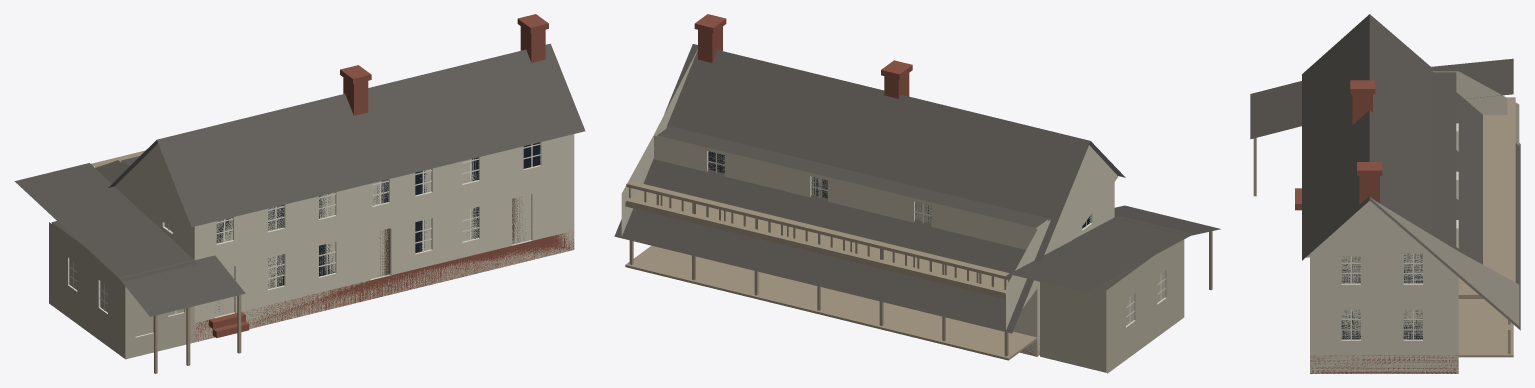
The model's file is hinderliter-grog-shop-1913.glb.
The picture shows the model from 3 angles, left to right: view 1: azimuth 30°, elevation 25°; view 2: azimuth 150°, elevation 25°; view 3: azimuth 270°, elevation 25°; orthographic projection. The views are drawn at different scales.
Parts seen in each view (by area): view 1: hinderliter_roof, hinderliter_board, hinderliter_board2, hinderliter_brick, hinderliter_glass, hinderliter_trim, hinderliter_sash, hinderliter_wood, hinderliter_base, hinderliter_door; view 2: hinderliter_roof, hinderliter_wood, hinderliter_board, hinderliter_board2, hinderliter_brick, hinderliter_glass; view 3: hinderliter_roof, hinderliter_board, hinderliter_wood, hinderliter_brick, hinderliter_glass, hinderliter_sash, hinderliter_trim.
Boxes of the visible parts, x1=… form: hinderliter_roof: x1=14, y1=43, x2=585, y2=316; hinderliter_board: x1=95, y1=134, x2=574, y2=342; hinderliter_board2: x1=49, y1=222, x2=194, y2=359; hinderliter_brick: x1=194, y1=14, x2=574, y2=341; hinderliter_glass: x1=216, y1=142, x2=539, y2=288; hinderliter_trim: x1=68, y1=142, x2=541, y2=337; hinderliter_sash: x1=69, y1=143, x2=540, y2=314; hinderliter_wood: x1=91, y1=150, x2=241, y2=373; hinderliter_base: x1=209, y1=312, x2=249, y2=337; hinderliter_door: x1=215, y1=198, x2=523, y2=312; hinderliter_roof: x1=614, y1=44, x2=1220, y2=333; hinderliter_wood: x1=625, y1=180, x2=1212, y2=360; hinderliter_board: x1=621, y1=49, x2=1118, y2=356; hinderliter_board2: x1=1040, y1=239, x2=1184, y2=373; hinderliter_brick: x1=694, y1=14, x2=1039, y2=356; hinderliter_glass: x1=708, y1=151, x2=1090, y2=228; hinderliter_roof: x1=1250, y1=14, x2=1520, y2=330; hinderliter_board: x1=1306, y1=71, x2=1519, y2=373; hinderliter_wood: x1=1253, y1=97, x2=1515, y2=357; hinderliter_brick: x1=1310, y1=80, x2=1458, y2=373; hinderliter_glass: x1=1341, y1=253, x2=1422, y2=339; hinderliter_sash: x1=1341, y1=253, x2=1422, y2=340; hinderliter_trim: x1=1341, y1=123, x2=1458, y2=340.
Size of the model in its own units: 22.57 by 9.75 by 11.78.
